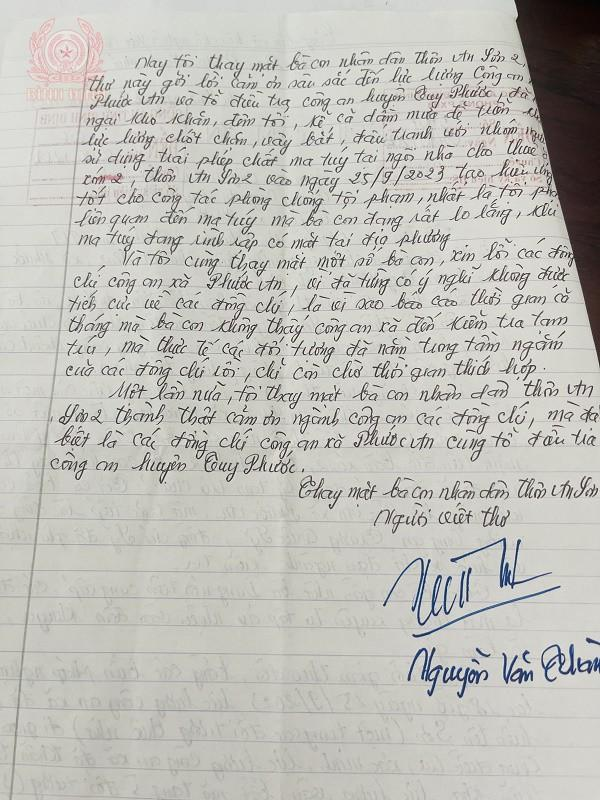text: (57, 423, 596, 461), (381, 534, 563, 643), (118, 234, 578, 276), (57, 329, 569, 366), (68, 262, 576, 298), (81, 97, 541, 136), (72, 178, 561, 214), (63, 283, 574, 317), (78, 136, 549, 172), (54, 400, 600, 431), (86, 62, 531, 99), (76, 200, 558, 234), (60, 354, 540, 388), (79, 117, 543, 152), (80, 160, 551, 194), (63, 310, 569, 341), (131, 43, 527, 80), (83, 83, 538, 113), (106, 381, 596, 408), (404, 636, 600, 700), (298, 470, 598, 509), (73, 226, 453, 254), (50, 448, 307, 484), (370, 503, 513, 537)
